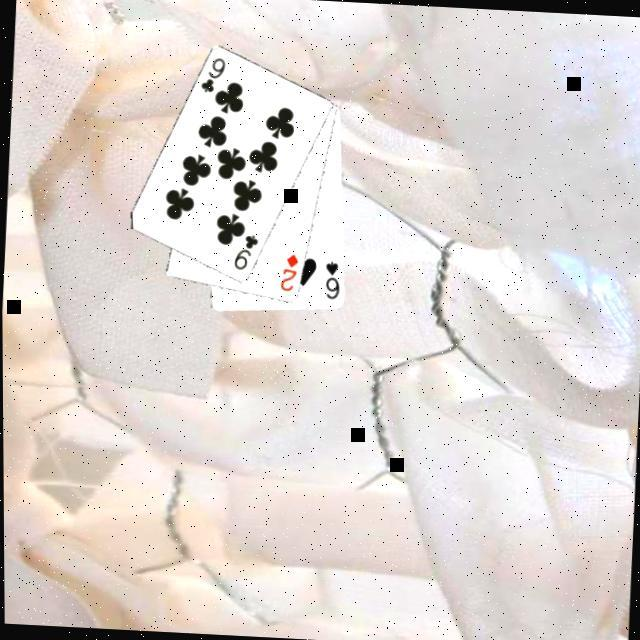2D: (276, 251, 300, 295)
6S: (320, 259, 342, 303)
9C: (196, 54, 228, 98), (230, 232, 260, 274)
